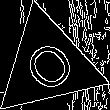O_SE: (15, 31, 81, 98)
